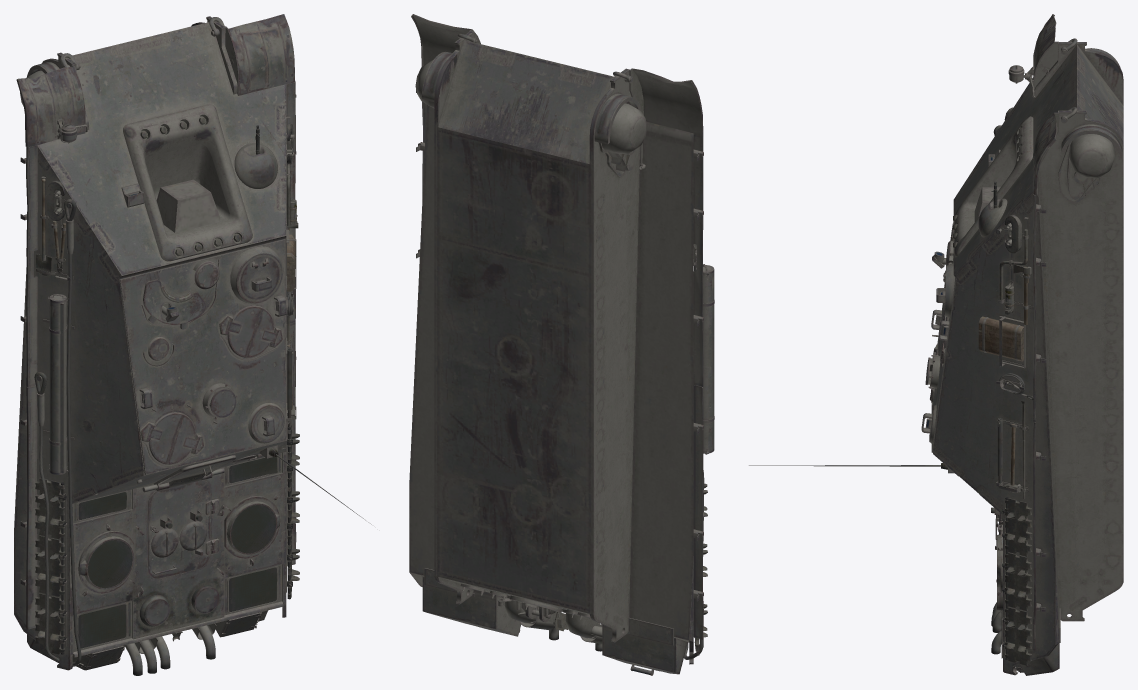
Rendered from Hull.glb.
3 views of the same model, side by side, from view 1: azimuth 30°, elevation 25°; view 2: azimuth 150°, elevation 25°; view 3: azimuth 270°, elevation 25° (orthographic). The views are drawn at different scales.
Visible parts, largest first — view 1: set_0_group_0; view 2: set_0_group_0; view 3: set_0_group_0.
Part boxes in pixels (box(x1,y1,x2,y2)): set_0_group_0: box(14, 14, 371, 675); set_0_group_0: box(409, 14, 714, 675); set_0_group_0: box(749, 14, 1123, 675).
Size of the model in its own units: 3.29 by 6.9 by 4.21.
Materials: 1 (1 with a texture image).
